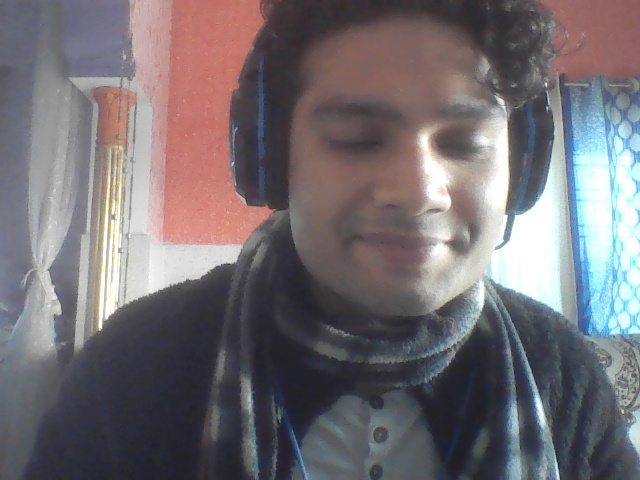real: (247, 0, 533, 406)
